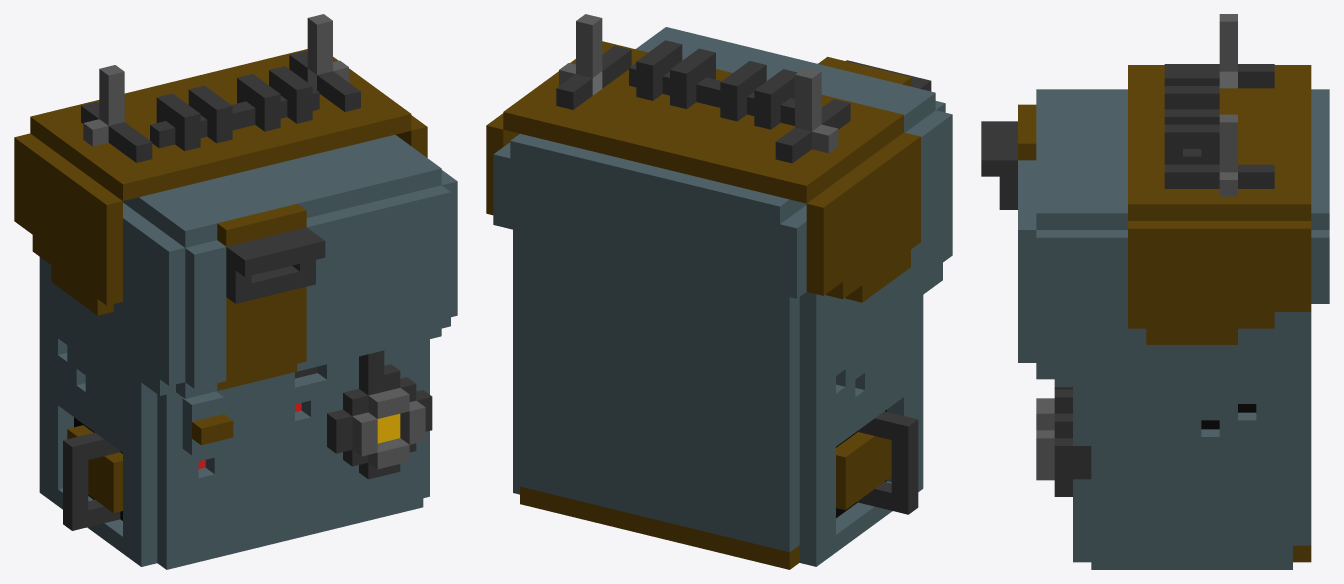
Rendered from Head-6.obj.
The picture shows the model from 3 angles, left to right: view 1: azimuth 30°, elevation 25°; view 2: azimuth 150°, elevation 25°; view 3: azimuth 270°, elevation 25°; orthographic projection. The views are drawn at different scales.
Size of the model in its own units: 2.1 by 2.6 by 1.9.
Materials: 1 (1 with a texture image).
